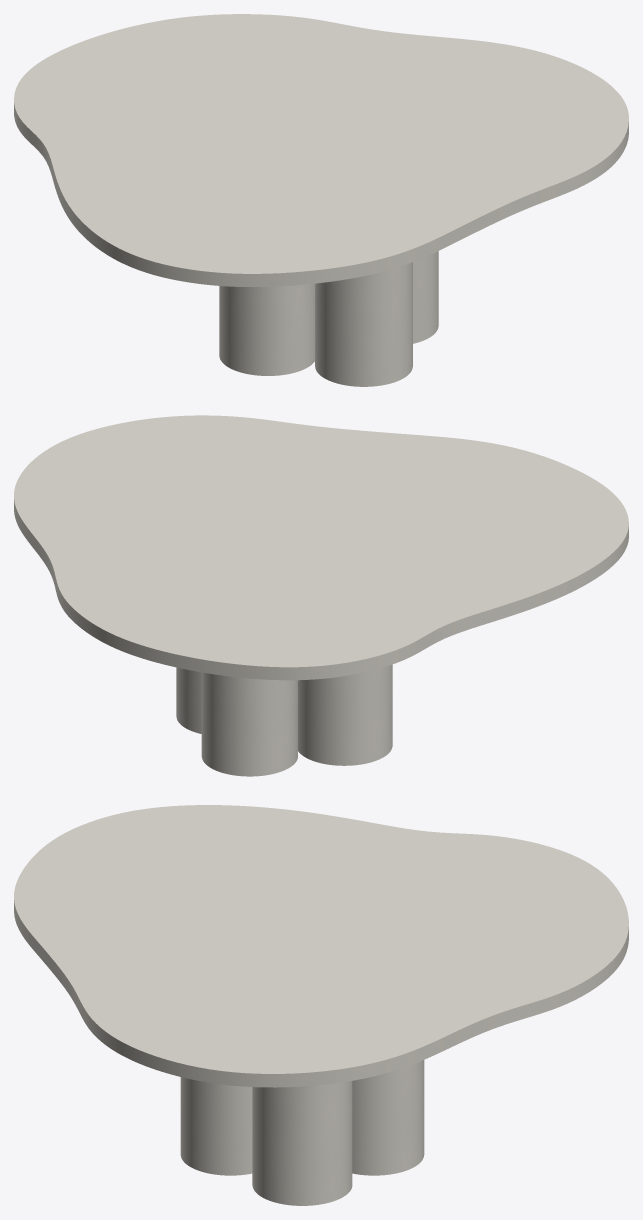
File: pale_topone_standard_secondtable.glb
3 views of the same model, one above another, from view 1: azimuth 30°, elevation 25°; view 2: azimuth 150°, elevation 25°; view 3: azimuth 270°, elevation 25° (orthographic). The views are drawn at different scales.
Visible parts, largest first — view 1: standard_topone, secondtable; view 2: standard_topone, secondtable; view 3: standard_topone, secondtable.
Boxes of the visible parts, x1=… form: standard_topone: x1=14, y1=14, x2=628, y2=286; secondtable: x1=219, y1=251, x2=438, y2=386; standard_topone: x1=14, y1=415, x2=628, y2=680; secondtable: x1=176, y1=664, x2=392, y2=776; standard_topone: x1=14, y1=805, x2=628, y2=1087; secondtable: x1=180, y1=1060, x2=424, y2=1205.
Size of the model in its own units: 6.83 by 2.5 by 6.6.
Materials: 1 (1 with a texture image).
